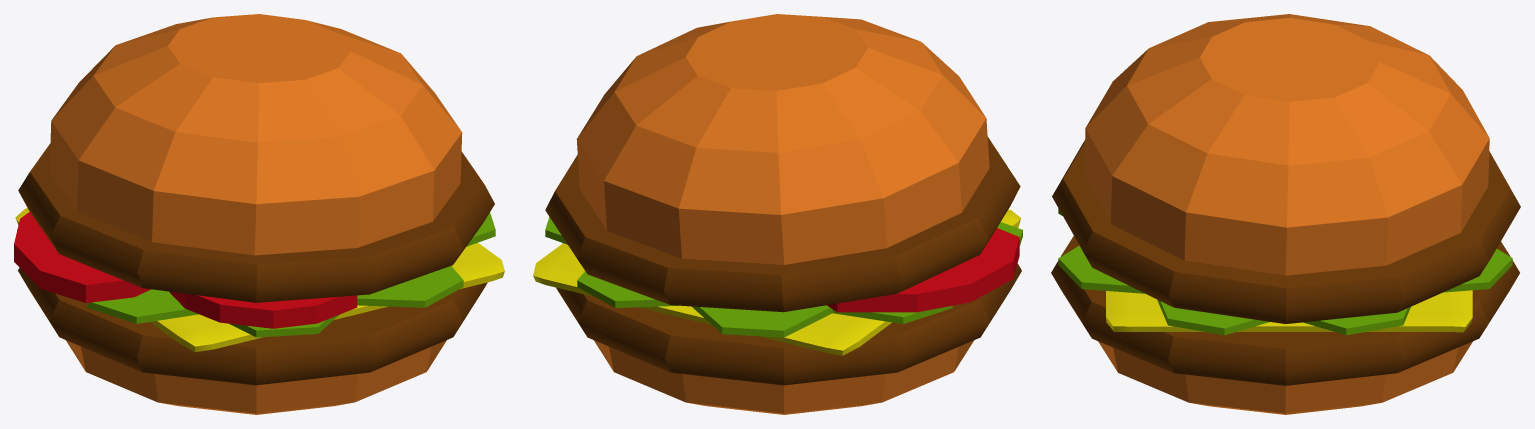
Rendered from Hamburger.fbx.
The picture shows the model from 3 angles, left to right: view 1: azimuth 30°, elevation 25°; view 2: azimuth 150°, elevation 25°; view 3: azimuth 270°, elevation 25°; orthographic projection.
Visible parts, largest first — view 1: Hamburger; view 2: Hamburger; view 3: Hamburger.
Boxes of the visible parts, x1,y1,x2,y2 form: Hamburger: (14,14,504,414); Hamburger: (533,14,1022,414); Hamburger: (1051,14,1520,414).
Size of the model in its own units: 10.1 by 6.79 by 9.72.
